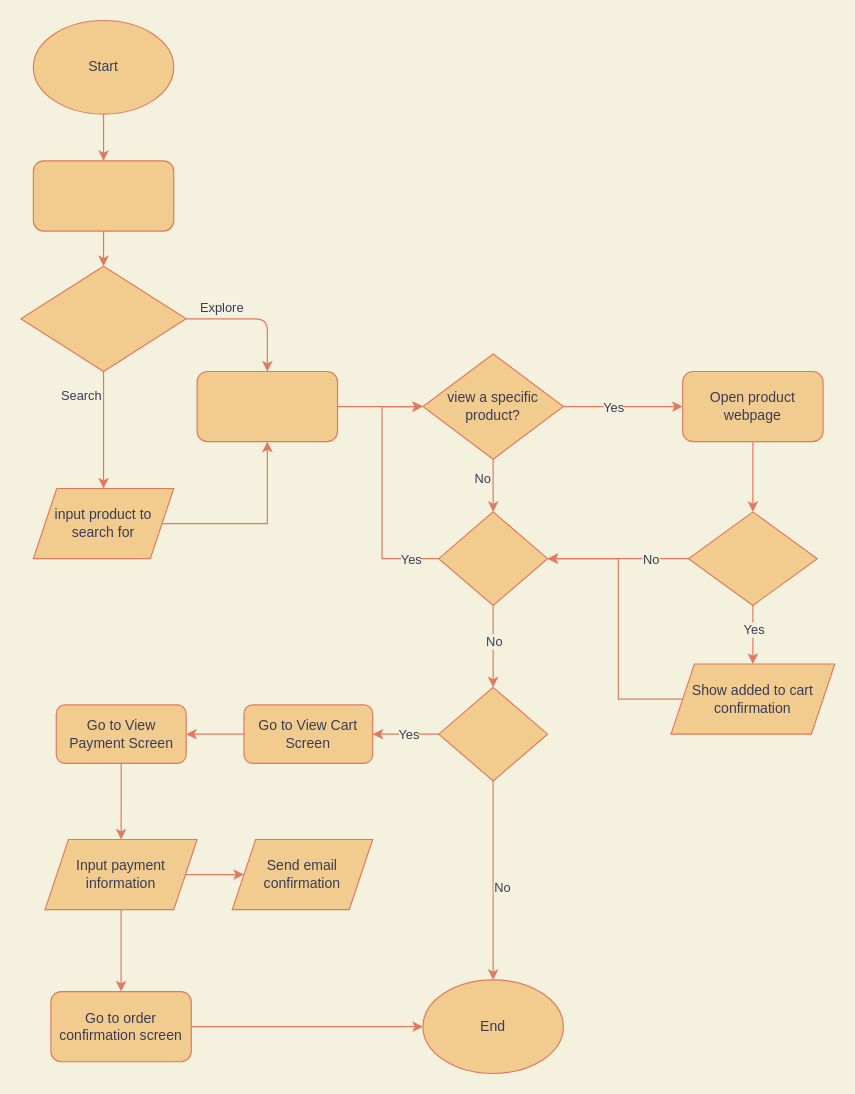
Image size: 855x1094. Some labels were removed from this diagram. The centre of each missing label's shape, as x and y in pixels:
"add to cart?" belongs at point (752, 558).
"Checkout?" belongs at point (493, 733).
"Continue shopping?" belongs at point (493, 558).
"Look at products" belongs at point (267, 406).
"search or explore?" belongs at point (103, 318).
"User enters website" belongs at point (103, 195).
